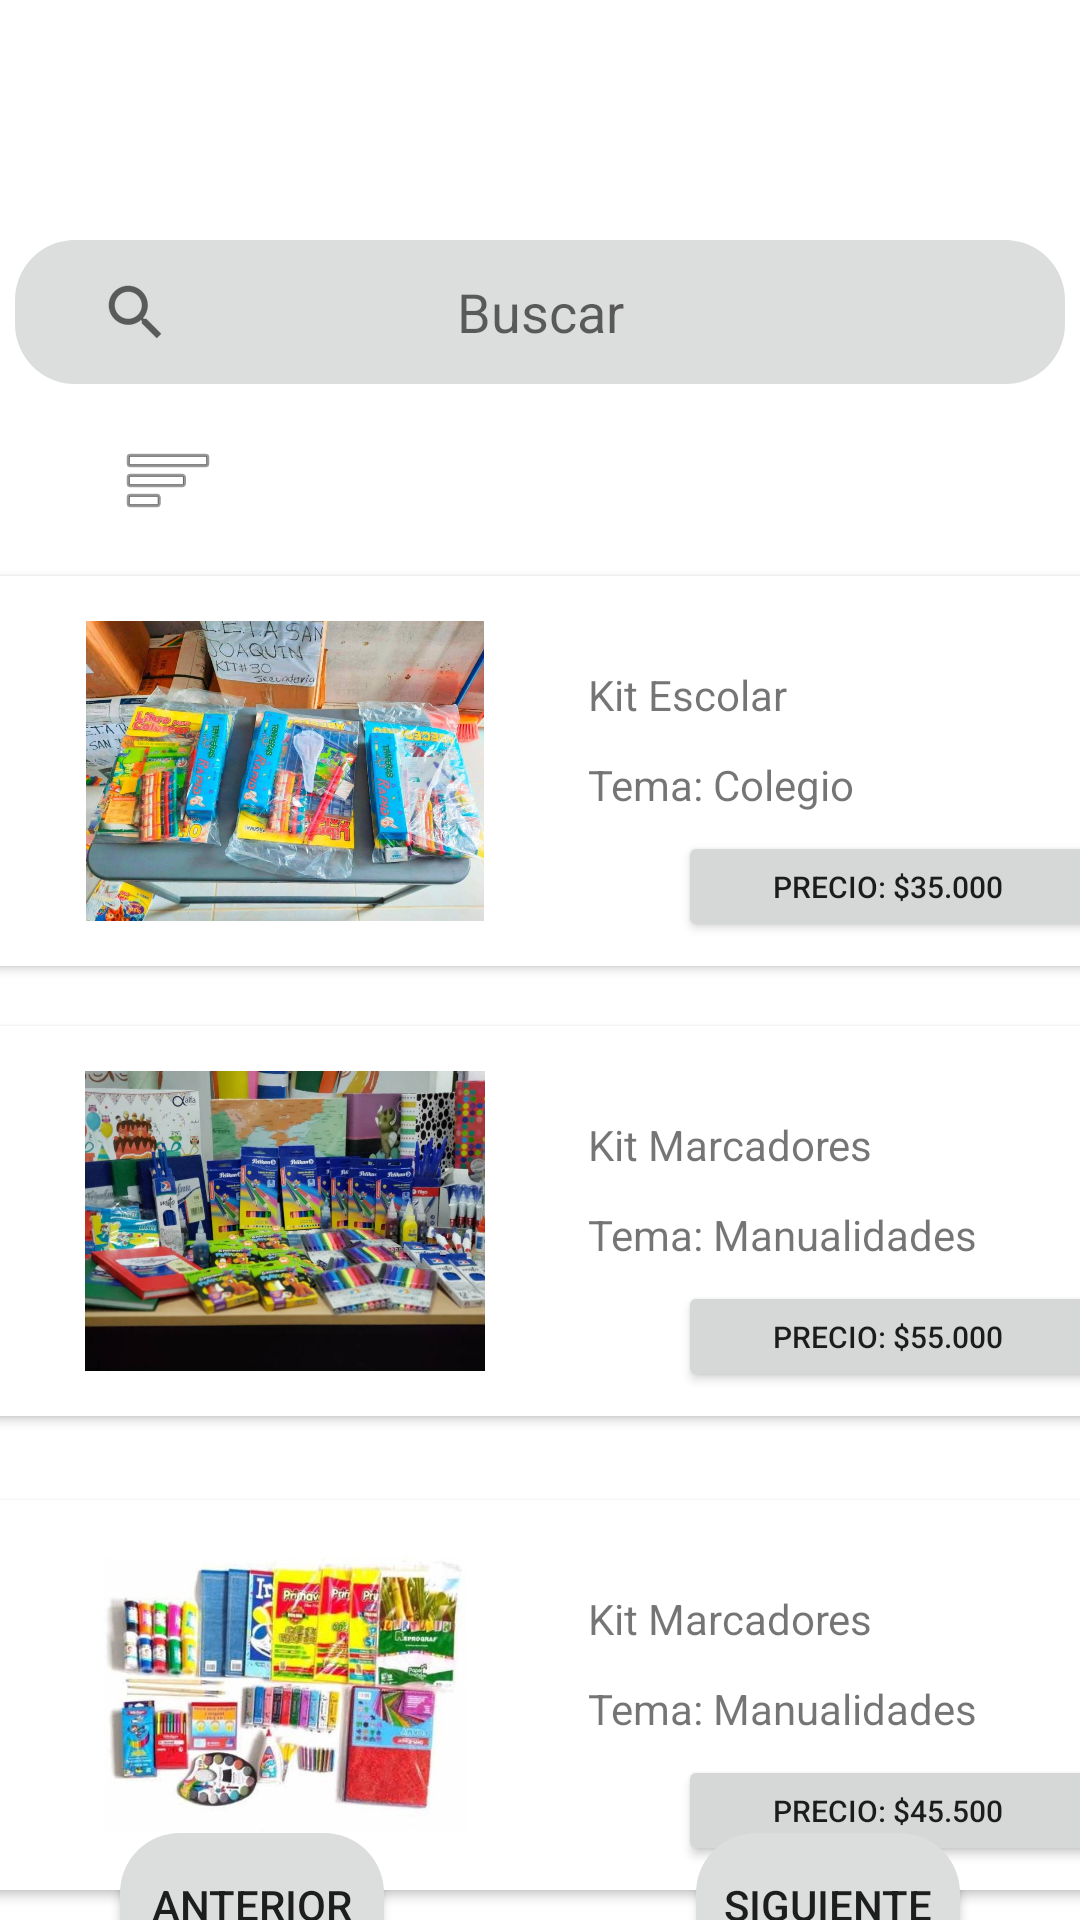

Icon bounding boxes for this 1080px x 1920px phone screenshot, format (x1, y1, x2, y2):
sort by size: (127, 454, 209, 507)
